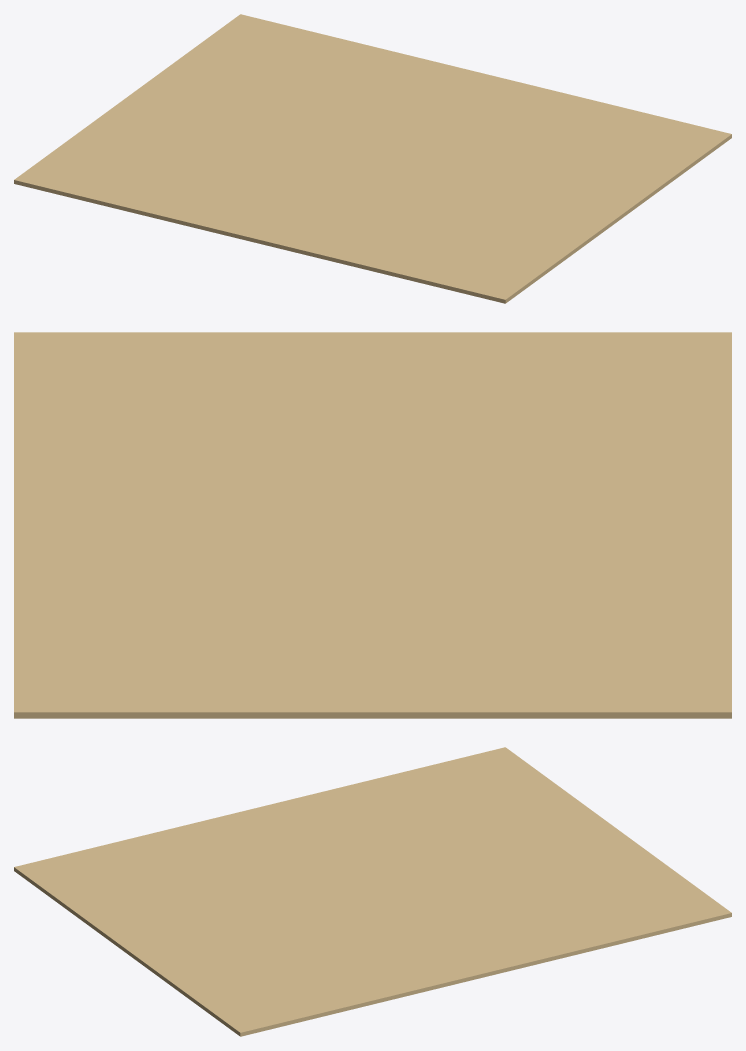
3 renders of one model, top to bottom at view 1: azimuth 30°, elevation 25°; view 2: azimuth 150°, elevation 25°; view 3: azimuth 270°, elevation 25°, orthographic. The views are drawn at different scales.
Parts seen in each view (by area): view 1: 支流2_独立纸底.001; view 2: 支流2_独立纸底.001; view 3: 支流2_独立纸底.001.
Part boxes in pixels (x1,y1,x2,y2): 支流2_独立纸底.001: [14, 14, 731, 303]; 支流2_独立纸底.001: [14, 332, 731, 718]; 支流2_独立纸底.001: [14, 747, 731, 1036].
Bounding box in the file's own units: 1.24 × 0.008 × 1.32.
